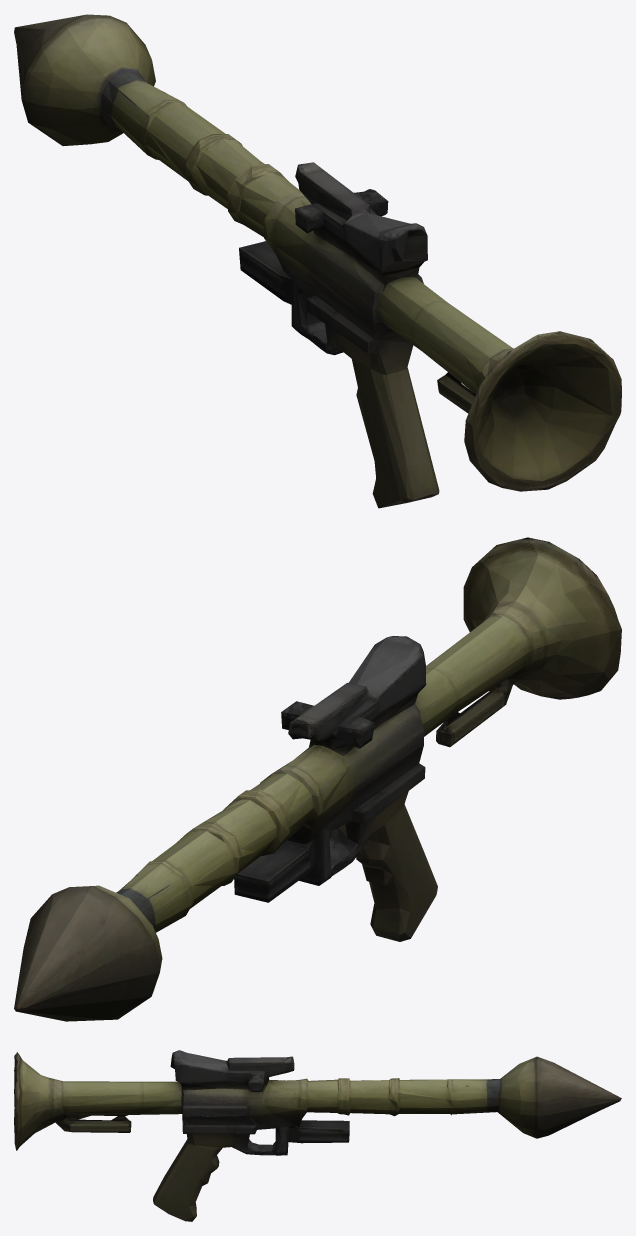
The model's file is rpg.glb.
3 renders of one model, top to bottom at view 1: azimuth 30°, elevation 25°; view 2: azimuth 150°, elevation 25°; view 3: azimuth 270°, elevation 25°, orthographic. The views are drawn at different scales.
Parts seen in each view (by area): view 1: geometry_0; view 2: geometry_0; view 3: geometry_0.
Boxes of the visible parts, <box> form: geometry_0: <box>14,14,621,508</box>; geometry_0: <box>14,537,621,1021</box>; geometry_0: <box>14,1050,621,1221</box>.
Size of the model in its own units: 0.171 by 0.2987 by 1.
Materials: 1 (1 with a texture image).
